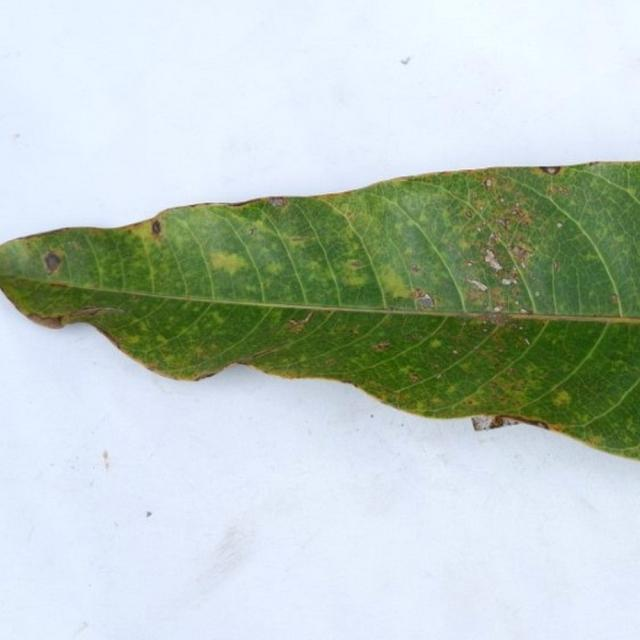Mango: (0, 162, 639, 458)
Powdery_Mildew: (472, 198, 532, 245), (199, 245, 263, 282), (121, 215, 173, 246), (475, 279, 523, 311), (372, 262, 413, 298), (461, 208, 498, 236), (62, 306, 120, 323), (339, 260, 373, 288), (475, 310, 515, 328), (504, 205, 532, 228), (286, 312, 314, 331), (43, 251, 63, 274), (465, 285, 488, 305), (510, 244, 531, 264), (484, 250, 503, 271), (264, 260, 287, 277), (546, 183, 573, 196), (552, 389, 571, 406), (467, 278, 488, 293), (417, 293, 435, 309), (208, 311, 226, 326), (66, 239, 84, 252), (346, 259, 365, 270), (372, 340, 391, 351), (268, 196, 286, 207), (289, 235, 313, 243), (587, 434, 604, 445), (539, 166, 562, 174), (414, 400, 430, 411), (584, 252, 601, 262), (474, 200, 488, 212), (48, 281, 69, 289), (429, 338, 443, 349), (626, 416, 637, 430), (410, 262, 422, 274), (343, 209, 355, 221), (404, 332, 420, 341), (324, 357, 338, 367), (488, 381, 503, 390), (408, 372, 420, 383), (505, 367, 518, 377), (501, 278, 515, 286), (552, 260, 560, 274), (611, 293, 620, 304), (349, 327, 361, 335), (484, 178, 492, 187), (248, 227, 256, 235), (464, 211, 472, 219), (467, 399, 474, 405), (557, 223, 563, 229)
